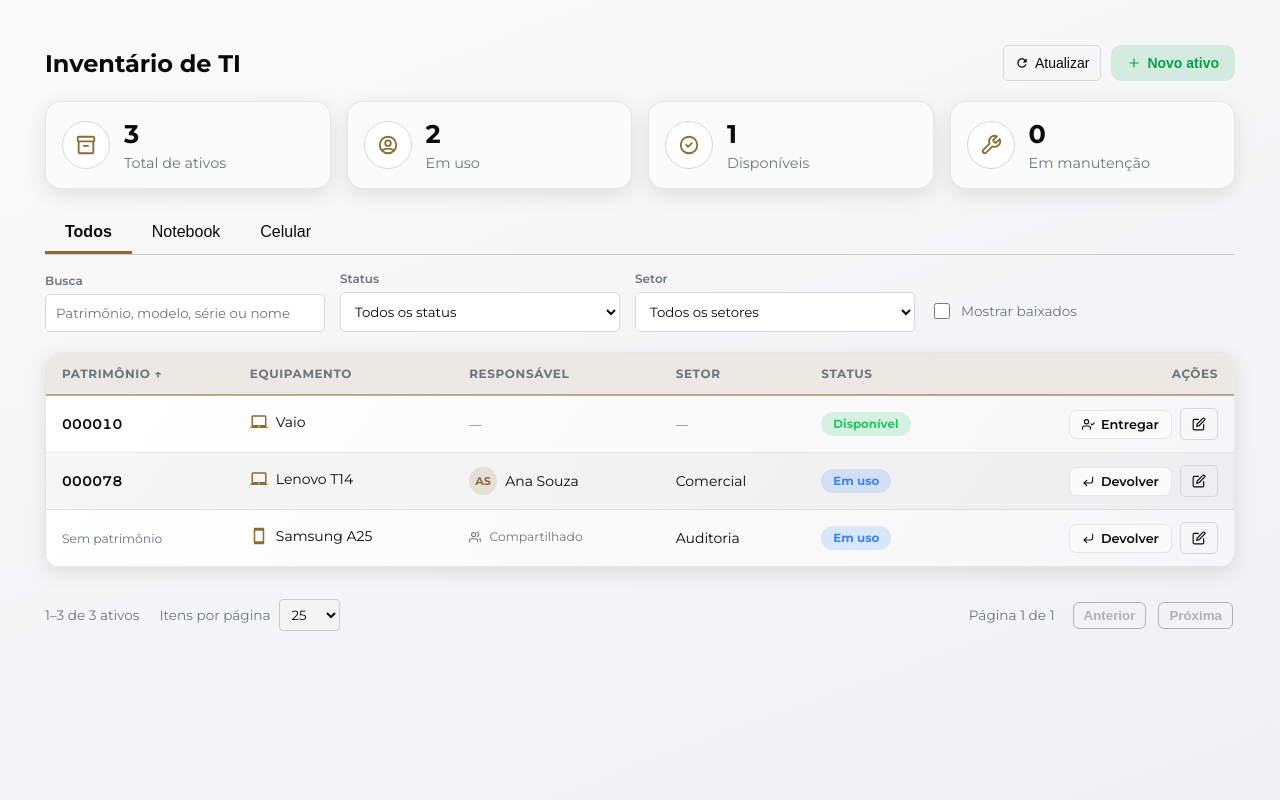
Test case: Inventário de TI › sugestão de patrimônio no cadastro › na edição não sugere nem troca o patrimônio
Expected: the number of rows with class "inv-row" is 3, 46,395 -> 1234,452; 46,452 -> 1234,510; 46,510 -> 1234,566
What coordinates should you click on to do the following:
click the button named "Editar "
I would click on:
 (1199, 424)
Its box is 1180,408 -> 1218,440.
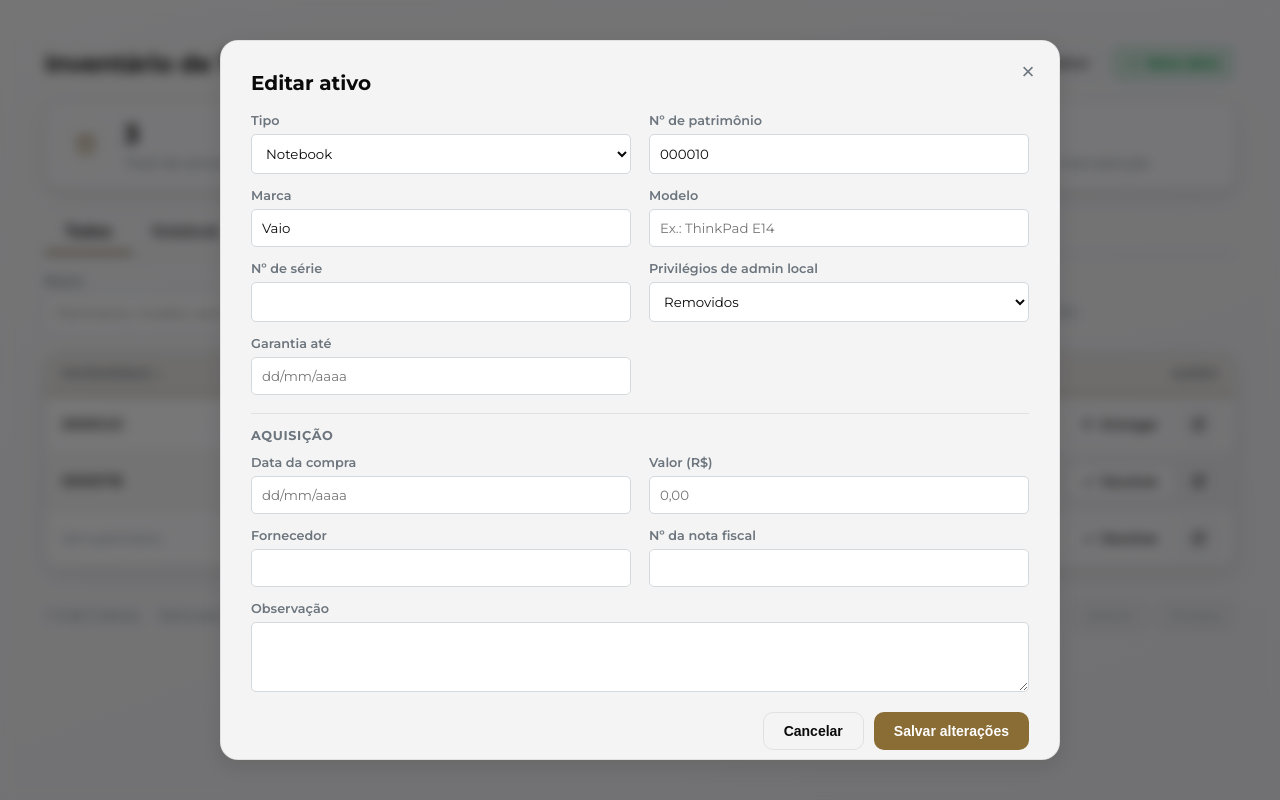
Now the field labelled "Nº de patrimônio" holds "000010", box 649,134 -> 1029,174
